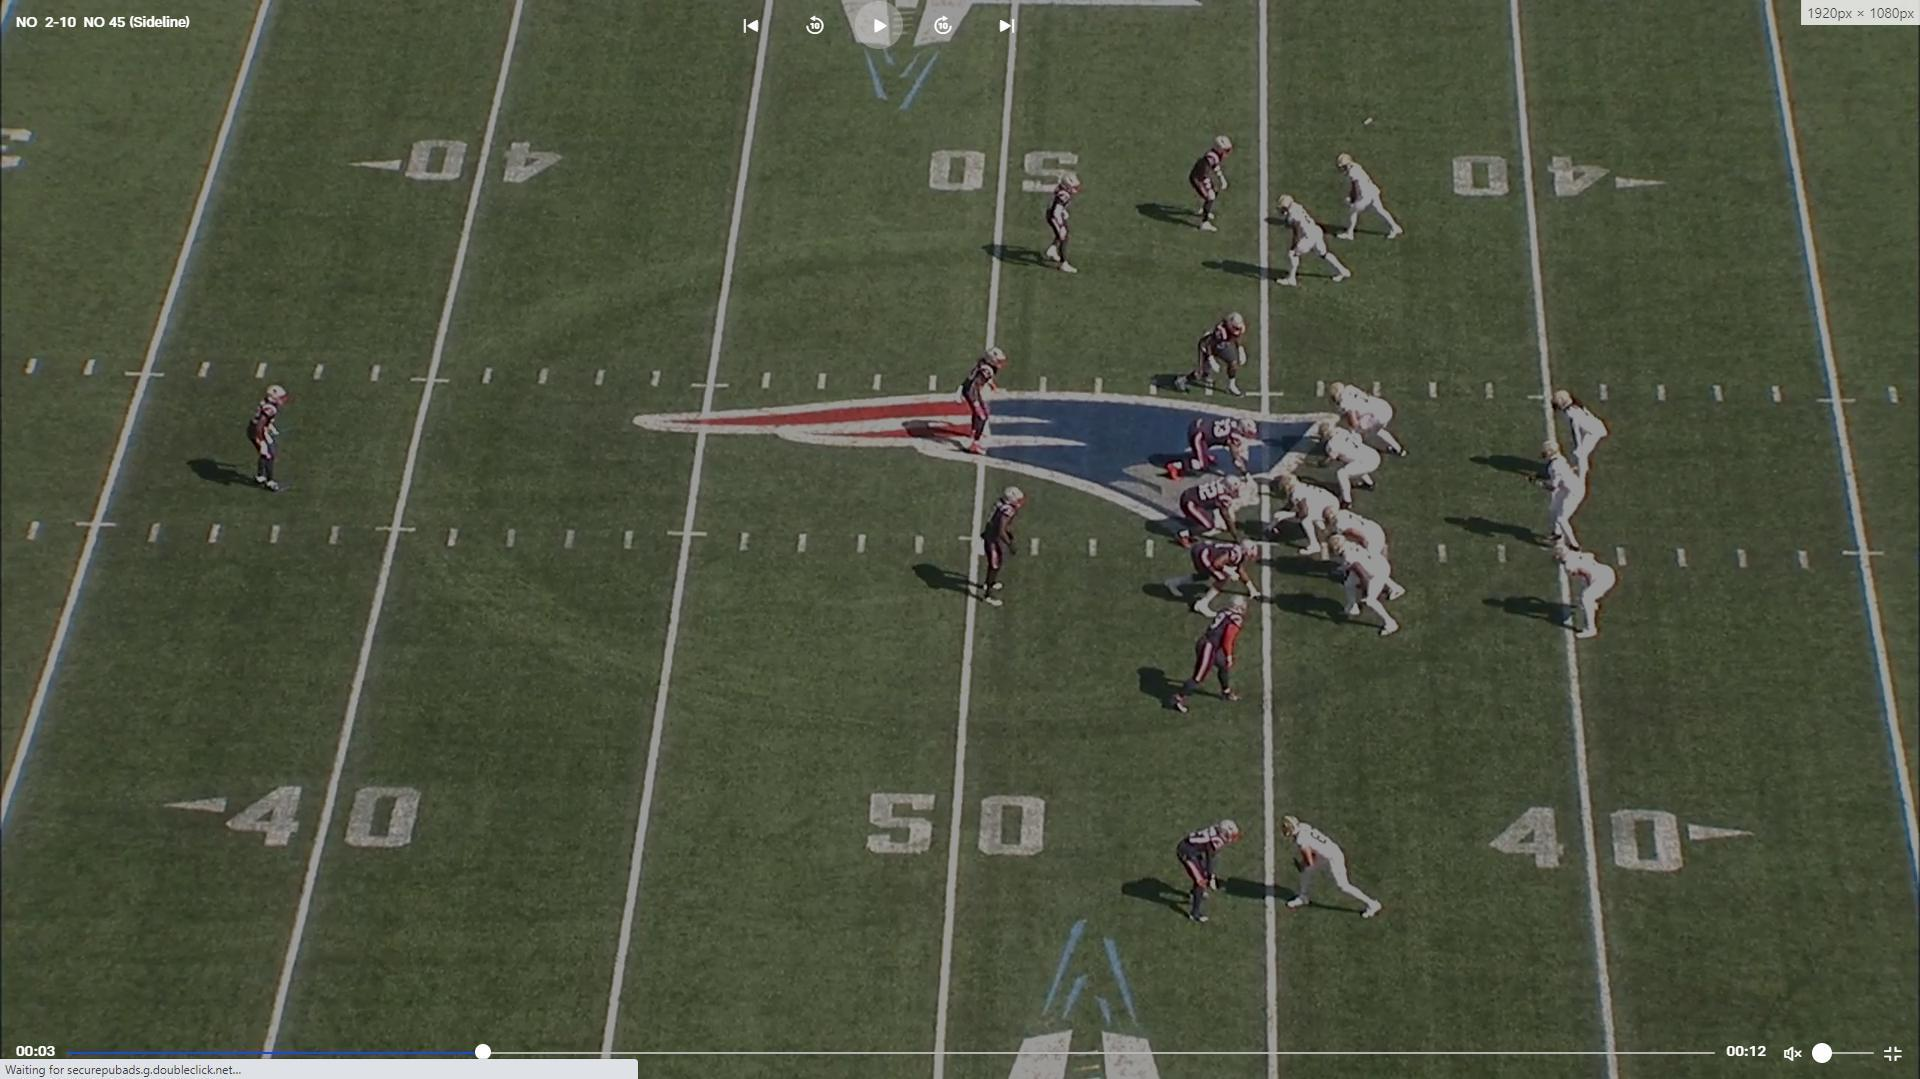player: (1283, 814, 1392, 928), (1163, 589, 1254, 721), (1154, 310, 1252, 400), (1169, 817, 1242, 933), (1334, 534, 1410, 644), (1272, 191, 1354, 292), (1157, 411, 1260, 490), (973, 483, 1035, 613), (1161, 540, 1263, 616), (1531, 439, 1595, 557), (1335, 147, 1411, 246), (1554, 386, 1613, 505), (1553, 542, 1619, 645), (1328, 379, 1408, 462), (250, 378, 302, 497), (1276, 477, 1344, 563), (1183, 131, 1237, 237), (1170, 475, 1249, 545), (962, 348, 1010, 462), (1328, 504, 1398, 580), (1322, 424, 1384, 509), (1042, 172, 1086, 280)
